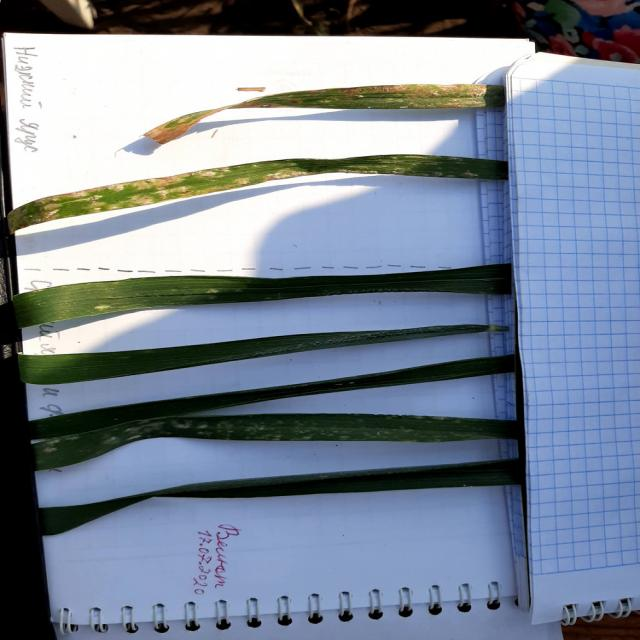wheat-powdery-mildew: (8, 155, 510, 233), (30, 415, 521, 472), (87, 298, 131, 316)
